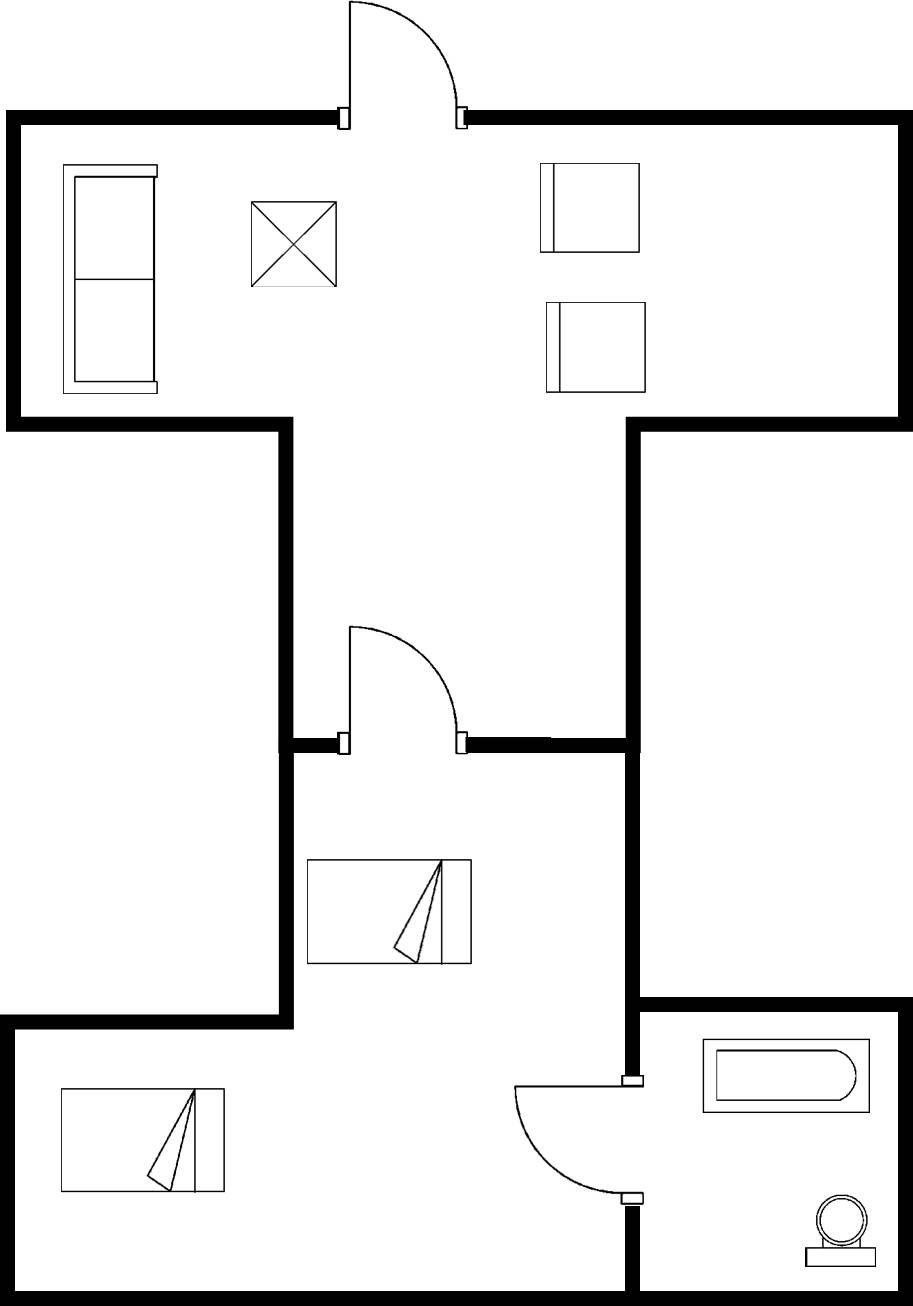bed: (51, 1077, 234, 1204), (300, 853, 482, 975)
coffee_table: (243, 193, 346, 298)
large_sink: (800, 1185, 890, 1277)
large_sofa: (52, 155, 170, 400)
small_sofa: (527, 155, 652, 265), (535, 293, 654, 402)
tub: (696, 1027, 878, 1127)
